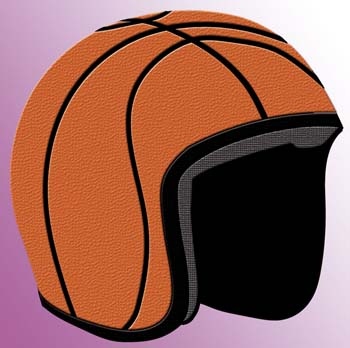helmet: (29, 15, 339, 327)
